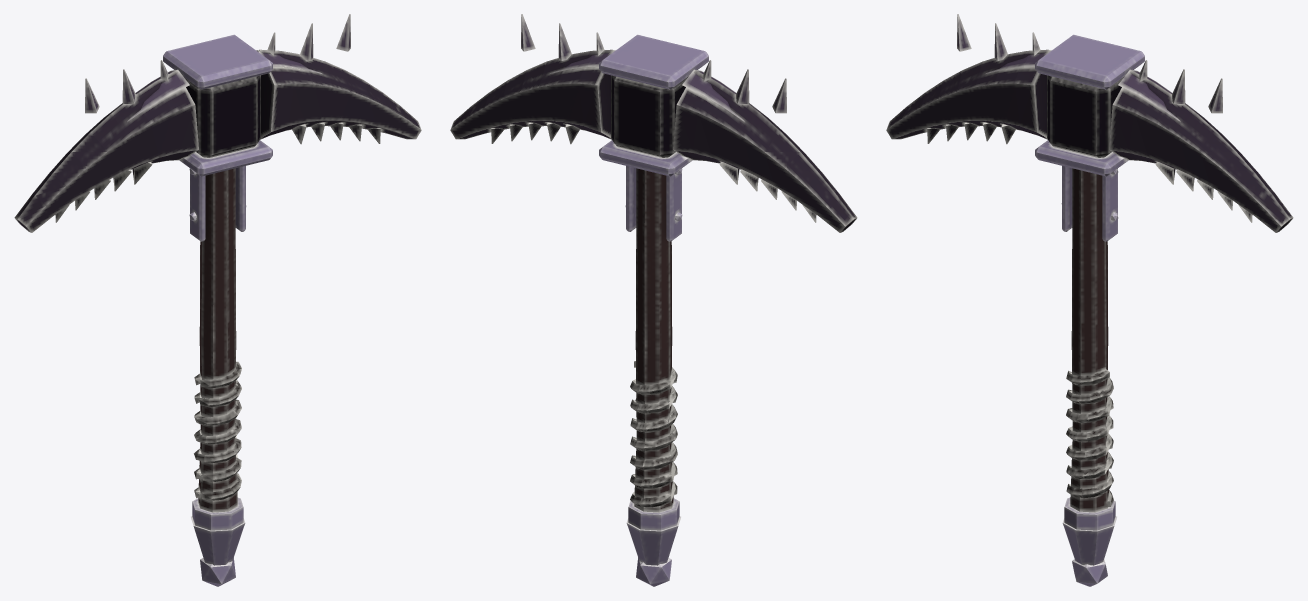
Rendered from SurtshardPickaxe.glb.
3 renders of one model, left to right at view 1: azimuth 30°, elevation 25°; view 2: azimuth 150°, elevation 25°; view 3: azimuth 330°, elevation 25°, orthographic.
Parts seen in each view (by area): view 1: Body__Tex; view 2: Body__Tex; view 3: Body__Tex.
Boxes of the visible parts, x1,y1,x2,y2 form: Body__Tex: [14, 14, 421, 586]; Body__Tex: [450, 14, 857, 586]; Body__Tex: [886, 14, 1293, 586].
Bounding box in the file's own units: 3.19 × 4.11 × 0.54.
Materials: 1 (1 with a texture image).
